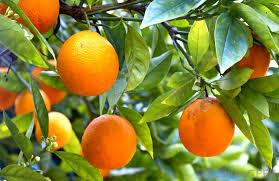orange: (180, 87, 238, 154), (74, 112, 140, 166), (62, 36, 121, 88), (9, 79, 62, 136), (229, 21, 279, 64), (0, 0, 59, 32)
